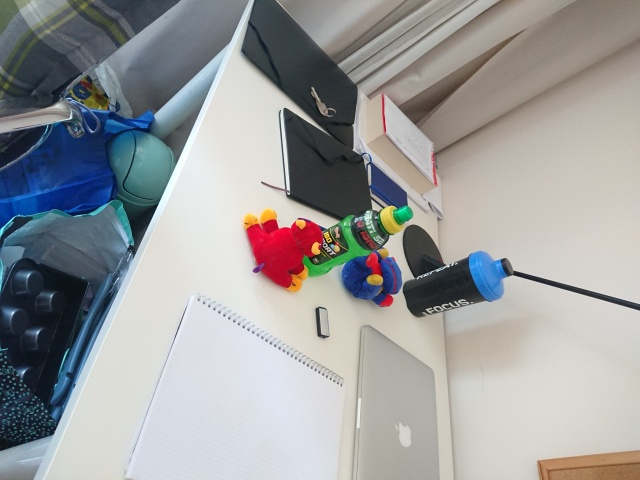Vindi Iso Sport Lemon-Grapefruit 500mL: (292, 203, 415, 279)
